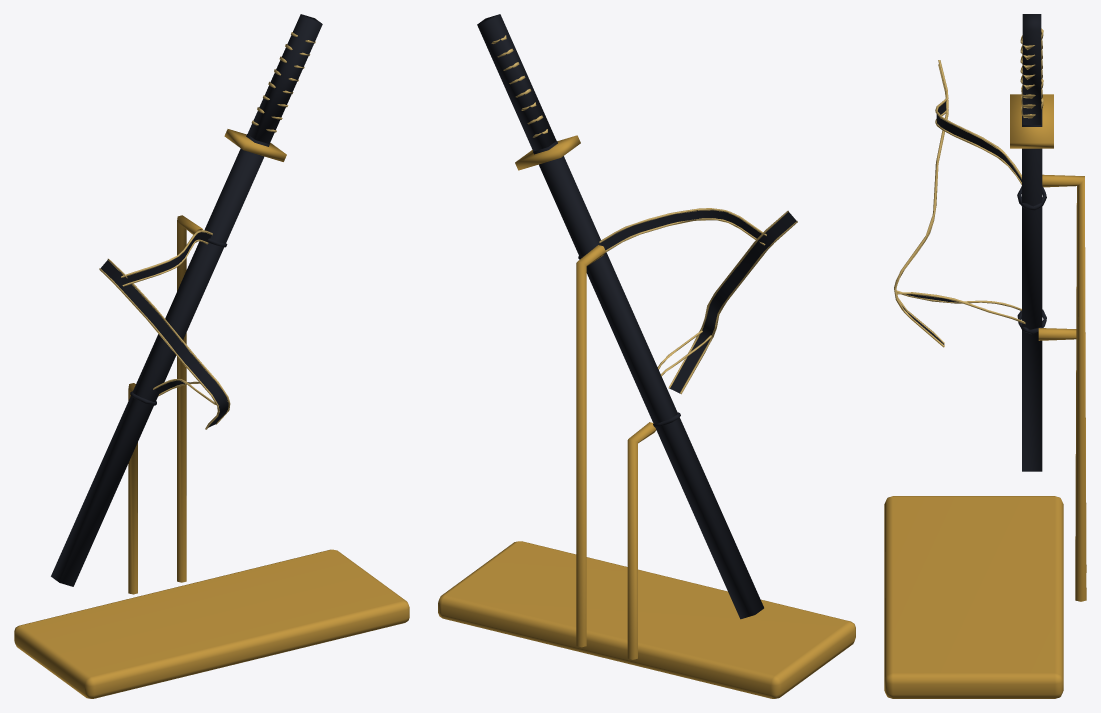
Rendered from rain.acc.back-katana.lod1.glb.
3 views of the same model, side by side, from view 1: azimuth 30°, elevation 25°; view 2: azimuth 150°, elevation 25°; view 3: azimuth 270°, elevation 25° (orthographic). The views are drawn at different scales.
Parts seen in each view (by area): view 1: stand_base, Foundation.Katana.Scabbard, Foundation.Katana.Handle, stand_cradle.001, Foundation.Katana.DiagonalHarness, stand_cradle, Foundation.Katana.Guard, Foundation.Katana.UpperHolster; view 2: stand_base, Foundation.Katana.Scabbard, stand_cradle.001, Foundation.Katana.Handle, stand_cradle, Foundation.Katana.DiagonalHarness, Foundation.Katana.UpperHolster, Foundation.Katana.Guard; view 3: stand_base, Foundation.Katana.Scabbard, stand_cradle.001, Foundation.Katana.Handle, Foundation.Katana.Guard, Foundation.Katana.DiagonalHarness.Stitch-1, Foundation.Katana.UpperHolster, stand_cradle, Foundation.Katana.LowerHolster.Stitch-1, Foundation.Katana.UpperHolster.Stitch-1, Foundation.Katana.DiagonalHarness.Stitch1.
Boxes of the visible parts, box(x1,y1,x2,y2) form: stand_base: box(14, 549, 409, 698); Foundation.Katana.Scabbard: box(51, 134, 269, 586); Foundation.Katana.Handle: box(247, 14, 322, 143); stand_cradle.001: box(177, 215, 202, 582); Foundation.Katana.DiagonalHarness: box(99, 259, 228, 427); stand_cradle: box(128, 383, 137, 594); Foundation.Katana.Guard: box(224, 129, 286, 161); Foundation.Katana.UpperHolster: box(121, 232, 211, 284); stand_base: box(438, 541, 855, 698); Foundation.Katana.Scabbard: box(533, 141, 763, 619); stand_cradle.001: box(576, 245, 605, 647); Foundation.Katana.Handle: box(477, 14, 556, 151); stand_cradle: box(627, 422, 655, 659); Foundation.Katana.DiagonalHarness: box(669, 211, 797, 393); Foundation.Katana.UpperHolster: box(600, 210, 767, 249); Foundation.Katana.Guard: box(515, 135, 580, 170); stand_base: box(884, 496, 1063, 698); Foundation.Katana.Scabbard: box(1022, 109, 1042, 471); stand_cradle.001: box(1042, 174, 1086, 601); Foundation.Katana.Handle: box(1022, 14, 1041, 124); Foundation.Katana.Guard: box(1010, 94, 1053, 148); Foundation.Katana.DiagonalHarness.Stitch-1: box(894, 60, 948, 347); Foundation.Katana.UpperHolster: box(936, 101, 1021, 182); stand_cradle: box(1038, 328, 1086, 572); Foundation.Katana.LowerHolster.Stitch-1: box(897, 292, 1025, 323); Foundation.Katana.UpperHolster.Stitch-1: box(935, 98, 1021, 179); Foundation.Katana.DiagonalHarness.Stitch1: box(894, 64, 948, 343).
Size of the model in its own units: 0.4456 by 0.75 by 0.2071.
